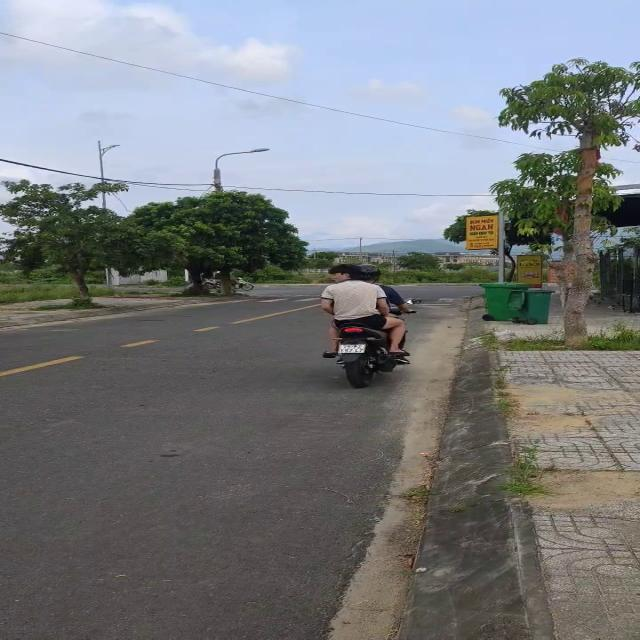helmet: (354, 264, 380, 282)
no_helmet: (328, 264, 360, 279)
